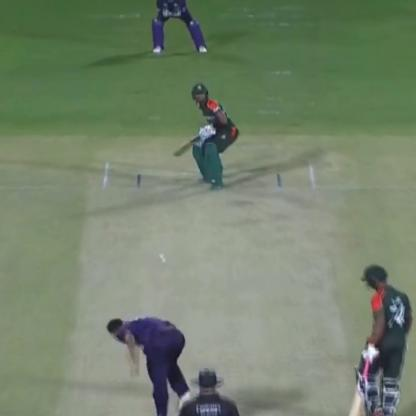ball: (157, 255, 174, 266), (155, 251, 163, 261)
bat: (161, 132, 216, 161)
pitch: (51, 160, 369, 416)
